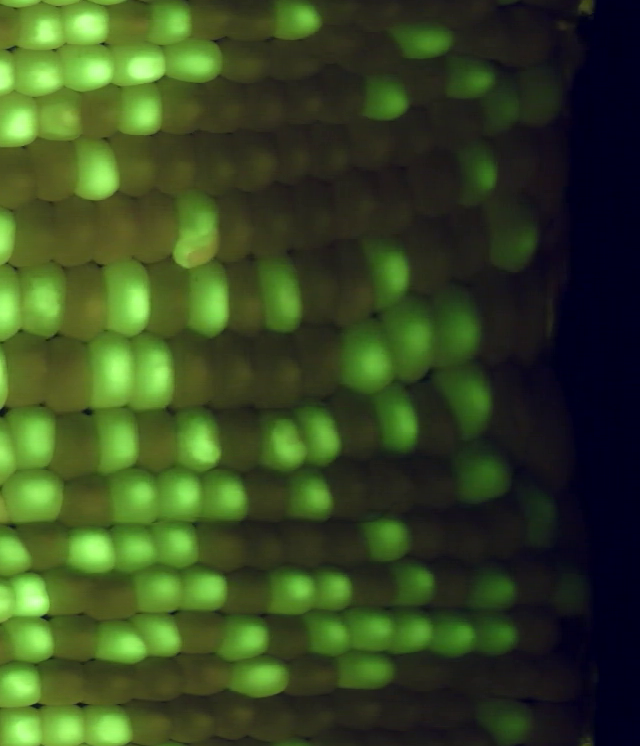fluorescent: (426, 276, 492, 374), (427, 357, 501, 444), (377, 291, 443, 388), (483, 187, 552, 278), (251, 248, 314, 339), (444, 438, 522, 510), (336, 317, 401, 400), (15, 258, 76, 345), (121, 329, 181, 415), (99, 256, 160, 340), (84, 327, 142, 415), (359, 230, 417, 318), (369, 378, 429, 462), (167, 186, 225, 272), (181, 253, 236, 341), (2, 400, 64, 476), (252, 406, 318, 477), (0, 466, 74, 528), (61, 134, 124, 206), (100, 464, 174, 525), (293, 394, 351, 471), (87, 404, 148, 477), (145, 463, 213, 526), (477, 64, 528, 146), (513, 61, 573, 129), (467, 693, 543, 746), (7, 41, 75, 100), (511, 477, 566, 549), (221, 653, 297, 705), (101, 35, 174, 89), (354, 511, 424, 567), (194, 466, 258, 527), (54, 37, 123, 92), (86, 615, 157, 668), (452, 136, 504, 208), (174, 404, 228, 473), (60, 522, 123, 581), (333, 646, 405, 697), (358, 67, 415, 131), (383, 19, 464, 64), (160, 34, 228, 87), (382, 554, 445, 611), (435, 53, 506, 103), (0, 612, 63, 668), (262, 561, 326, 616), (212, 612, 281, 662), (285, 462, 341, 523), (127, 610, 190, 664), (339, 605, 407, 655), (177, 560, 237, 616), (11, 1, 73, 55), (459, 563, 525, 613), (465, 608, 526, 662), (423, 608, 486, 660), (107, 519, 164, 576), (129, 562, 190, 615), (299, 608, 363, 658), (56, 1, 120, 51), (74, 699, 142, 746), (116, 79, 169, 139), (380, 606, 442, 657), (0, 89, 49, 152), (546, 562, 599, 620), (38, 88, 90, 147), (139, 1, 201, 50), (147, 516, 200, 571), (266, 1, 328, 47), (35, 698, 94, 746), (0, 657, 47, 716), (306, 561, 360, 611), (8, 569, 58, 622), (0, 520, 37, 585), (0, 698, 49, 746)
nonfluorescent: (519, 366, 585, 491), (469, 265, 531, 376), (485, 363, 548, 471), (307, 21, 412, 82), (206, 328, 274, 417), (402, 376, 470, 463), (403, 212, 468, 300), (39, 330, 99, 421), (246, 327, 308, 414), (324, 236, 381, 330), (287, 244, 348, 331), (165, 324, 223, 415), (288, 319, 353, 400), (326, 383, 390, 465), (127, 403, 192, 481), (55, 261, 117, 342), (0, 196, 63, 275), (359, 449, 429, 519), (529, 119, 579, 216), (123, 185, 183, 265), (509, 265, 553, 373), (406, 145, 470, 219), (491, 120, 548, 203), (220, 254, 274, 341), (284, 172, 342, 253), (48, 407, 108, 484), (209, 183, 264, 267), (447, 201, 503, 283), (247, 178, 303, 260), (500, 546, 568, 613), (491, 6, 559, 73), (1, 331, 57, 411), (187, 515, 258, 578), (24, 135, 86, 207), (49, 192, 106, 270), (399, 446, 465, 513), (328, 163, 385, 240), (190, 130, 251, 201), (153, 129, 211, 203), (91, 189, 146, 267), (301, 118, 366, 184), (164, 649, 243, 703), (104, 128, 164, 199), (143, 257, 194, 340), (227, 127, 291, 193), (366, 160, 421, 236), (154, 73, 218, 137), (312, 57, 376, 121), (236, 462, 302, 524), (200, 74, 260, 142), (320, 454, 379, 523), (57, 470, 121, 533), (425, 93, 496, 149), (274, 119, 327, 193), (9, 521, 79, 577), (214, 406, 268, 478), (475, 495, 536, 558), (506, 603, 570, 663), (78, 568, 143, 627), (345, 114, 410, 173), (234, 514, 296, 575), (531, 650, 593, 710), (128, 652, 193, 709), (280, 688, 347, 743), (74, 79, 133, 141), (255, 606, 317, 665), (170, 606, 234, 663), (41, 609, 106, 665), (316, 513, 377, 572), (203, 687, 267, 743), (443, 510, 507, 566), (214, 35, 287, 84), (425, 553, 482, 615), (40, 565, 104, 620), (453, 10, 517, 65), (31, 655, 96, 709), (273, 517, 340, 569), (546, 7, 598, 73), (343, 560, 405, 615), (276, 74, 339, 128), (393, 53, 455, 107), (80, 656, 144, 708), (267, 34, 333, 84), (118, 696, 186, 744), (243, 74, 298, 133), (222, 565, 277, 622), (440, 650, 503, 699), (390, 649, 460, 693), (404, 507, 459, 563), (489, 650, 544, 705), (388, 105, 446, 157), (219, 1, 286, 46), (522, 699, 586, 746), (371, 682, 424, 738), (284, 649, 347, 695), (101, 1, 160, 50), (335, 690, 394, 739), (0, 142, 40, 214), (409, 689, 481, 729), (164, 695, 220, 746), (244, 696, 306, 742), (186, 1, 239, 46), (349, 1, 411, 37), (313, 1, 369, 32)
